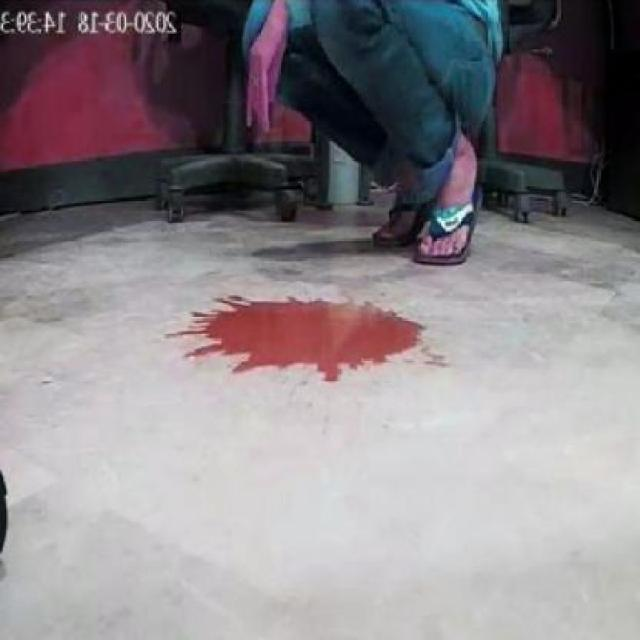spillage: (192, 302, 420, 384)
